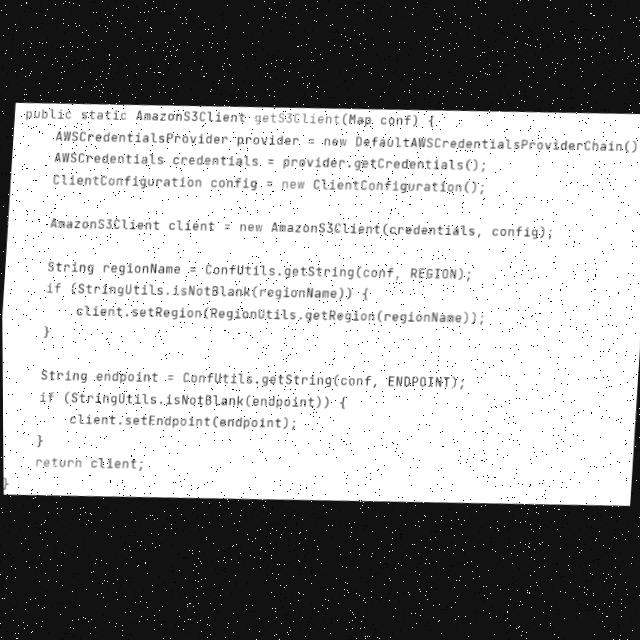code_screen: (2, 102, 640, 502)
